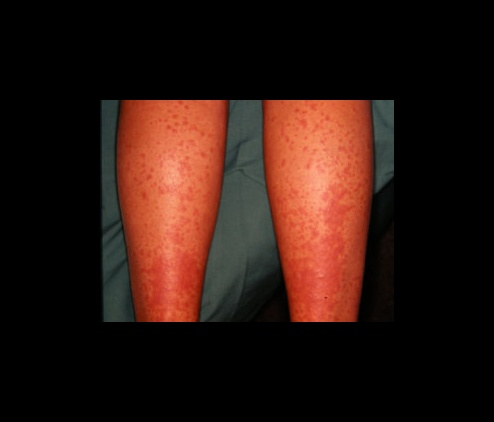SJS-TEN: (258, 96, 385, 327), (112, 100, 232, 323)
